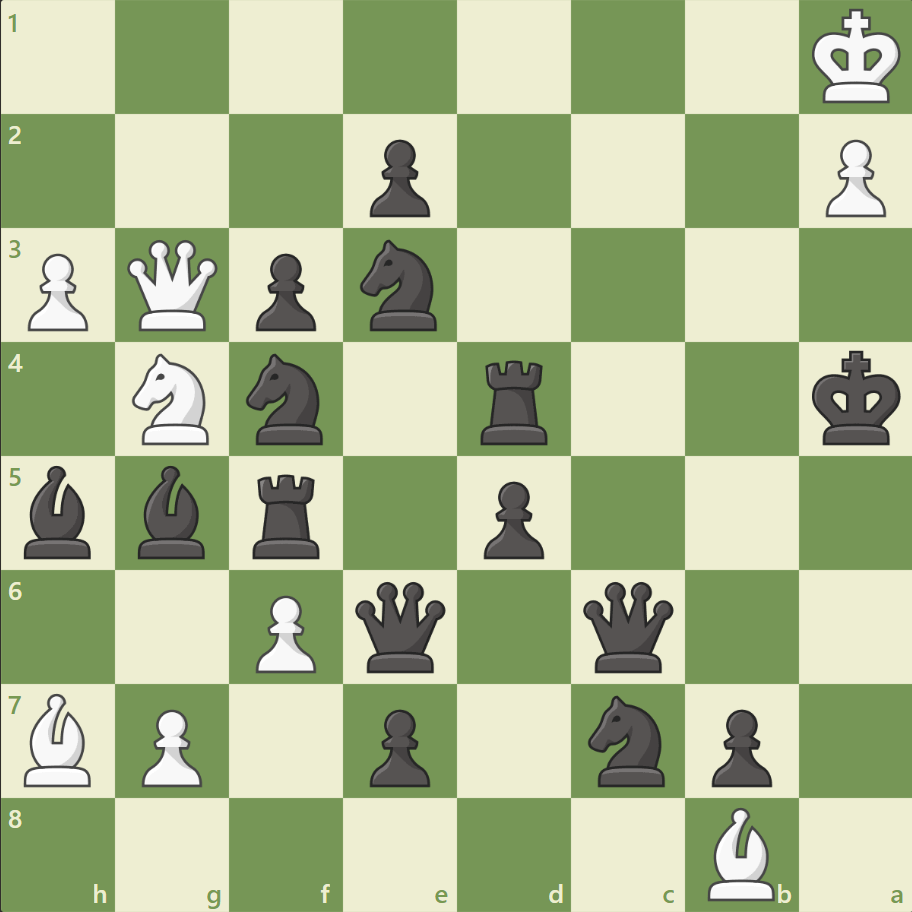B: (698, 801, 782, 904), (17, 687, 101, 790)
K: (806, 4, 906, 112)
N: (124, 348, 222, 450)
P: (133, 700, 208, 791), (247, 586, 322, 677), (20, 246, 95, 337), (815, 132, 889, 223)
Q: (124, 236, 223, 335)
b: (131, 460, 215, 563), (17, 460, 101, 563)
k: (806, 344, 906, 452)
n: (351, 234, 449, 337), (579, 688, 676, 791), (238, 348, 335, 450)
p: (701, 700, 776, 791), (474, 473, 549, 564), (247, 246, 322, 337), (361, 700, 435, 791), (361, 132, 435, 223)
q: (578, 576, 677, 676), (351, 576, 450, 676)
r: (246, 466, 329, 563), (473, 352, 556, 449)
